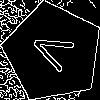V: (28, 27, 83, 77)
